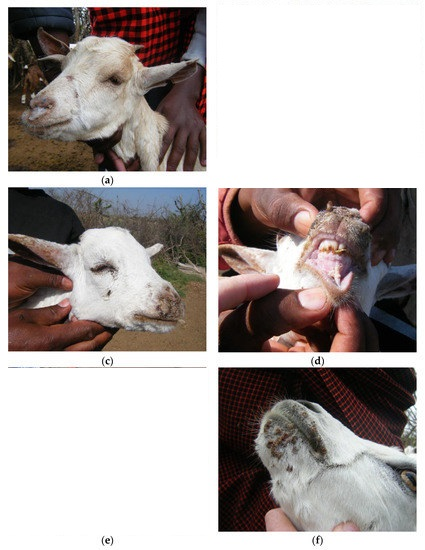ppr: (254, 396, 328, 467), (141, 294, 186, 331)
